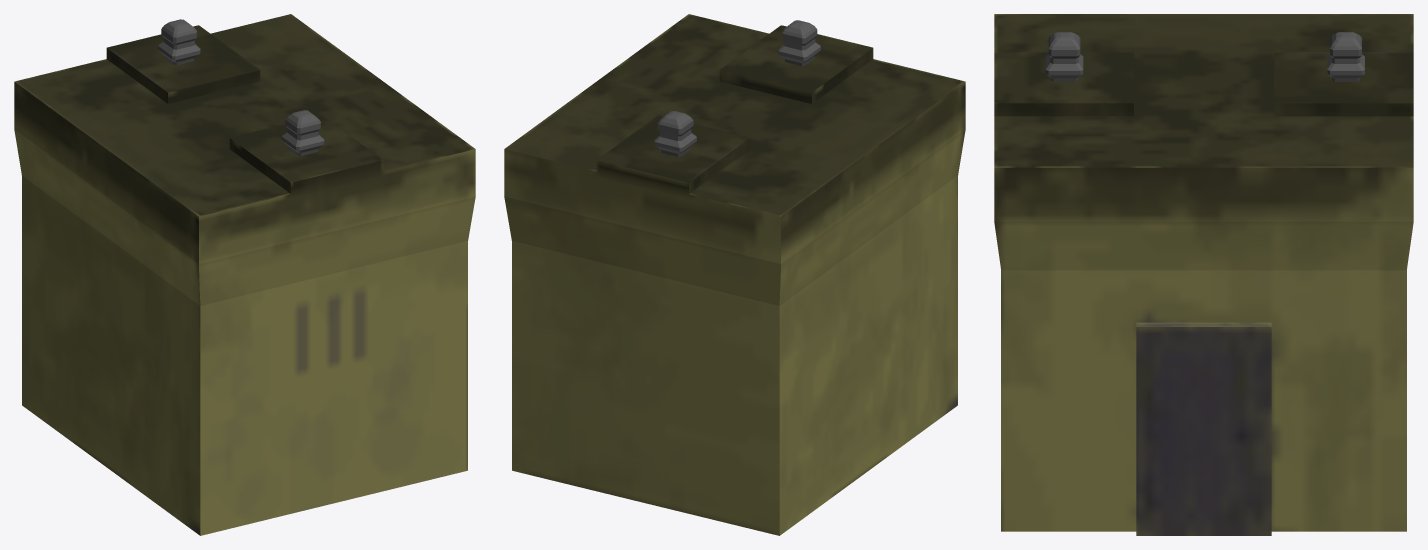
Rendered from трансформатор.fbx.
3 views of the same model, side by side, from view 1: azimuth 30°, elevation 25°; view 2: azimuth 150°, elevation 25°; view 3: azimuth 270°, elevation 25° (orthographic). The views are drawn at different scales.
Parts seen in each view (by area): view 1: Cube, conector, conector2; view 2: Cube, conector2, conector; view 3: Cube, conector2, conector.
Boxes of the visible parts, bbox=[...] form: Cube: bbox=[14, 14, 475, 535]; conector: bbox=[158, 19, 200, 65]; conector2: bbox=[281, 110, 324, 155]; Cube: bbox=[504, 14, 965, 535]; conector2: bbox=[778, 20, 820, 65]; conector: bbox=[654, 111, 696, 156]; Cube: bbox=[994, 14, 1413, 535]; conector2: bbox=[1045, 32, 1083, 81]; conector: bbox=[1327, 32, 1364, 81].
Bounding box in the file's own units: 327 × 414 × 374.
